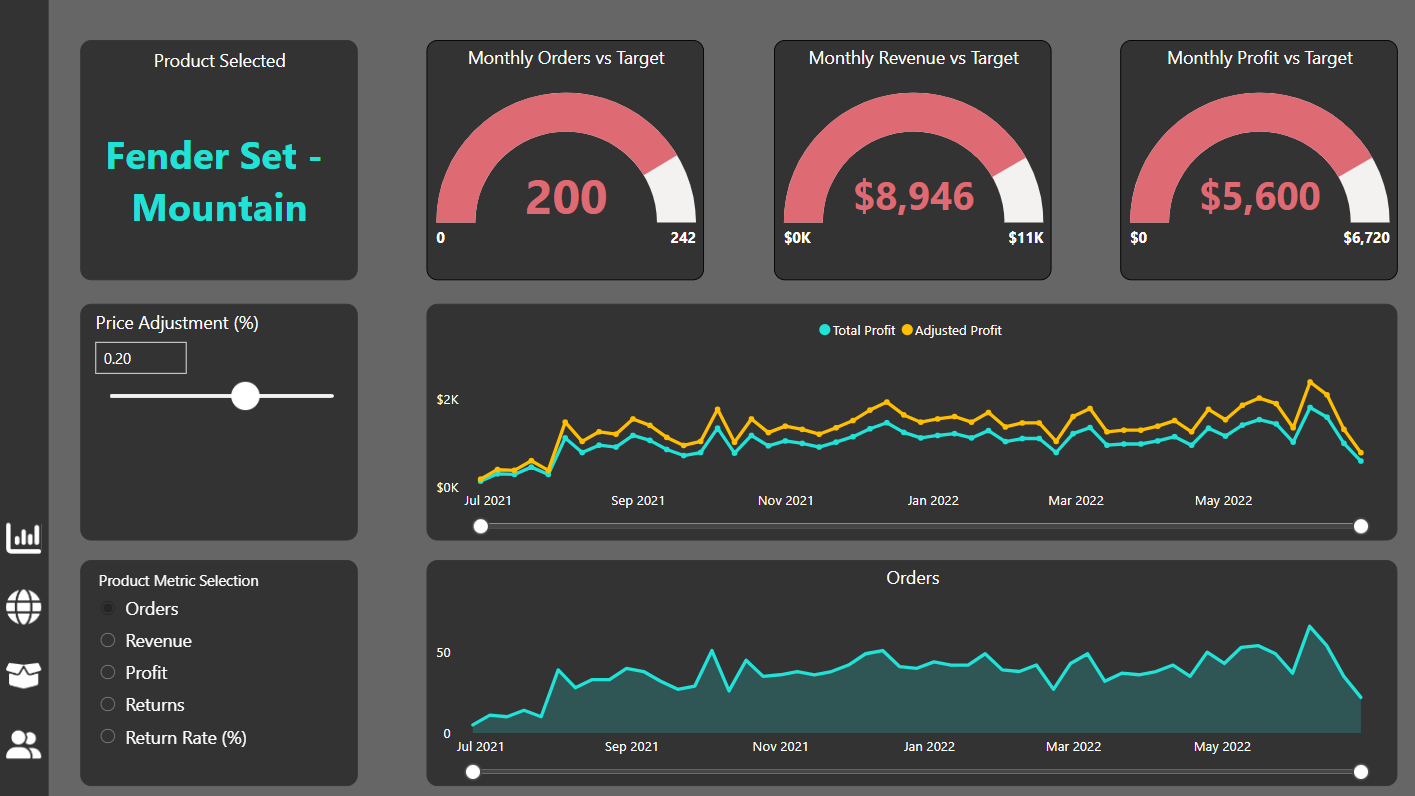

The dashboard page shown, as its layout file describes it:
{"tool":"powerbi","page":{"name":"Product Detail","canvas":[1280,720],"ordinal":2},"visuals":[{"type":"actionButton","title":"Button - Executive Dashboard","box":[0,465.6,44.5,39.7],"z":0,"group":"g1"},{"type":"gauge","title":"Monthly Orders vs Target","fields":{"Y":["Measure Table.Total Orders"],"MaxValue":["Measure Table.Order Target"]},"box":[386.1,36.1,250.3,216.6],"z":1000},{"type":"actionButton","title":"Button - Product Detail","box":[0,589.9,44.5,39.7],"z":1000,"group":"g1"},{"type":"gauge","title":"Monthly Revenue vs Target","fields":{"Y":["Measure Table.Total Revenue"],"MaxValue":["Measure Table.Revenue Target"]},"box":[699,36.1,250.3,216.6],"z":2000},{"type":"actionButton","title":"Button - Customer Detail","box":[0,652.1,44.5,39.7],"z":2000,"group":"g1"},{"type":"gauge","title":"Monthly Profit vs Target","fields":{"Y":["Measure Table.Total Profit"],"MaxValue":["Measure Table.Profit Target"]},"box":[1011.9,36.1,250.3,216.6],"z":3000},{"type":"actionButton","title":"Button - Map","box":[0,527.8,44.5,39.7],"z":3000,"group":"g1"},{"type":"lineChart","title":"Profit Trending","fields":{"Category":["Calendar Lookup.Date Hierarchy.Start of Year","Calendar Lookup.Date Hierarchy.Start of Month","Calendar Lookup.Date Hierarchy.Start of Week","Calendar Lookup.Date Hierarchy.Date"],"Y":["Measure Table.Total Profit","Measure Table.Adjusted Profit"]},"box":[385.9,274.3,876.3,213.7],"z":4000},{"type":"areaChart","fields":{"Y":["Measure Table.Total Orders"],"Category":["Calendar Lookup.Date Hierarchy.Start of Year","Calendar Lookup.Date Hierarchy.Start of Month","Calendar Lookup.Date Hierarchy.Start of Week","Calendar Lookup.Date Hierarchy.Date"]},"box":[385.9,505.8,876.3,204.2],"z":5000},{"type":"card","title":"Product Selected","fields":{"Values":["Min(Product Lookup.ProductName)"]},"box":[73.4,36.1,250,216.6],"z":6000},{"type":"slicer","title":"Price Adjustment Slicer","fields":{"Values":["Price Adjustment (%).Price Adjustment (%)"]},"box":[73.6,274.3,250.5,213.7],"z":7000},{"type":"slicer","title":"Product Metric Slicer","fields":{"Values":["Product Metric Selection.Product Metric Selection"]},"box":[73.6,505.8,250.5,204.2],"z":8000},{"type":"shape","title":"Navigation Pane","box":[0,0,45,720],"z":9500},{"type":"group","id":"g1","title":"Navigation Pane Buttons","box":[0,465.6,44.5,226.2],"z":10000}]}

Visuals, with their boxes on the page's 1280x720 design canvas (x1, y1, x2, y2). These are canvas units, not pixel positions in the 1415x796 screenshot, which may show the page scaled, cropped or inside an application window:
"Button - Executive Dashboard" actionButton: left=0, top=466, right=44, bottom=505
"Monthly Orders vs Target" gauge: left=386, top=36, right=636, bottom=253
"Button - Product Detail" actionButton: left=0, top=590, right=44, bottom=630
"Monthly Revenue vs Target" gauge: left=699, top=36, right=949, bottom=253
"Button - Customer Detail" actionButton: left=0, top=652, right=44, bottom=692
"Monthly Profit vs Target" gauge: left=1012, top=36, right=1262, bottom=253
"Button - Map" actionButton: left=0, top=528, right=44, bottom=568
"Profit Trending" lineChart: left=386, top=274, right=1262, bottom=488
areaChart - Measure Table.Total Orders x Calendar Lookup.Date Hierarchy.Start of Year: left=386, top=506, right=1262, bottom=710
"Product Selected" card: left=73, top=36, right=323, bottom=253
"Price Adjustment Slicer" slicer: left=74, top=274, right=324, bottom=488
"Product Metric Slicer" slicer: left=74, top=506, right=324, bottom=710
"Navigation Pane" shape: left=0, top=0, right=45, bottom=720
"Navigation Pane Buttons" group: left=0, top=466, right=44, bottom=692
